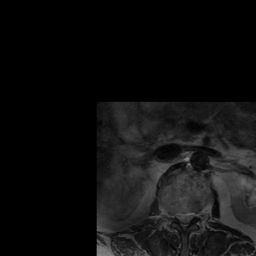CCS_normal: (181, 209, 187, 232)
LFS_stenosis: (193, 208, 199, 223)
LLS_stenosis: (187, 209, 193, 223)
RFS_stenosis: (170, 209, 176, 223)
RLS_stenosis: (176, 209, 181, 225)
